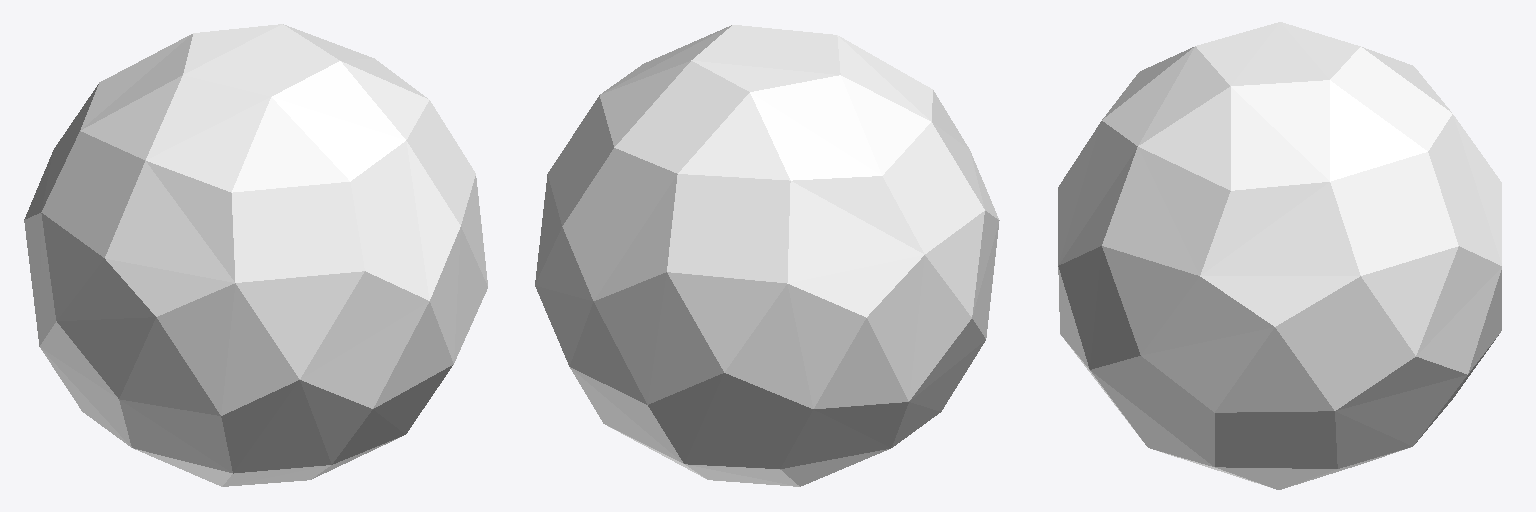
Rendered from soccer_ball__1_.obj.
3 views of the same model, side by side, from view 1: azimuth 30°, elevation 25°; view 2: azimuth 150°, elevation 25°; view 3: azimuth 270°, elevation 25° (orthographic).
Visible parts, largest first — view 1: soccer_ball__1__Scene.008; view 2: soccer_ball__1__Scene.008; view 3: soccer_ball__1__Scene.008.
Boxes of the visible parts, box(x1,y1,x2,y2) form: soccer_ball__1__Scene.008: box(24, 24, 487, 486); soccer_ball__1__Scene.008: box(535, 25, 999, 486); soccer_ball__1__Scene.008: box(1058, 22, 1501, 489).
Bounding box in the file's own units: 0.0774 × 0.0737 × 0.0739.